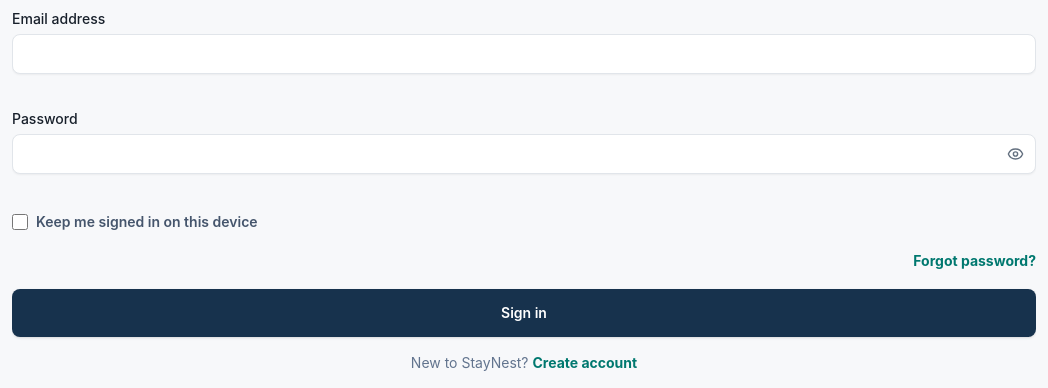
Test: AuthForm › shows meaningful login validation errors
Click the button "Sign in": [524, 313] box [12,289,1036,337]
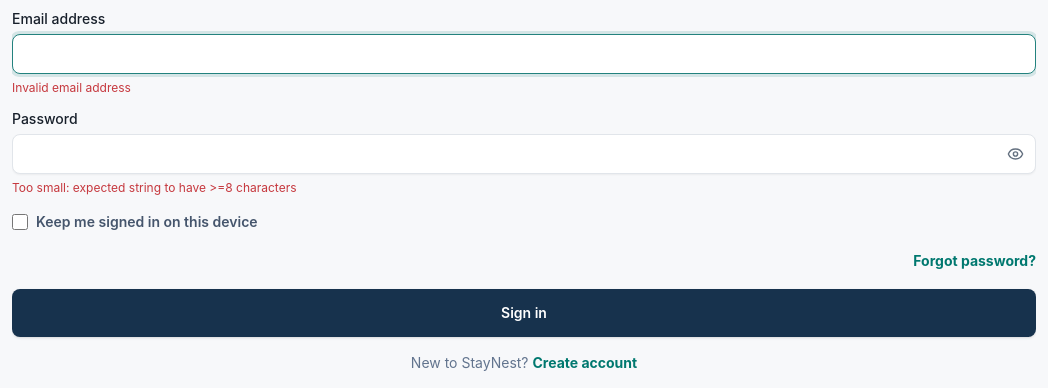
Now the text "Invalid email address" is shown, box [12,80,131,95]
Now the text ">=8 characters" is shown, box [12,180,296,195]
